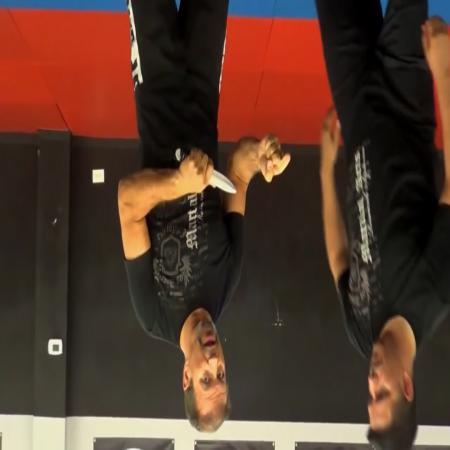long weapon: (169, 142, 241, 202)
